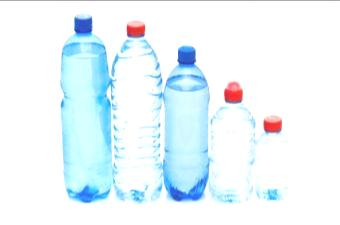bottle: (54, 12, 115, 207), (108, 17, 166, 204), (164, 39, 211, 206), (208, 74, 256, 208), (254, 112, 296, 208)
